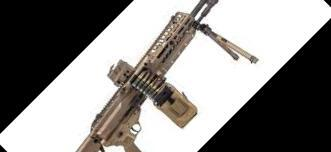larga: (75, 0, 260, 152)
